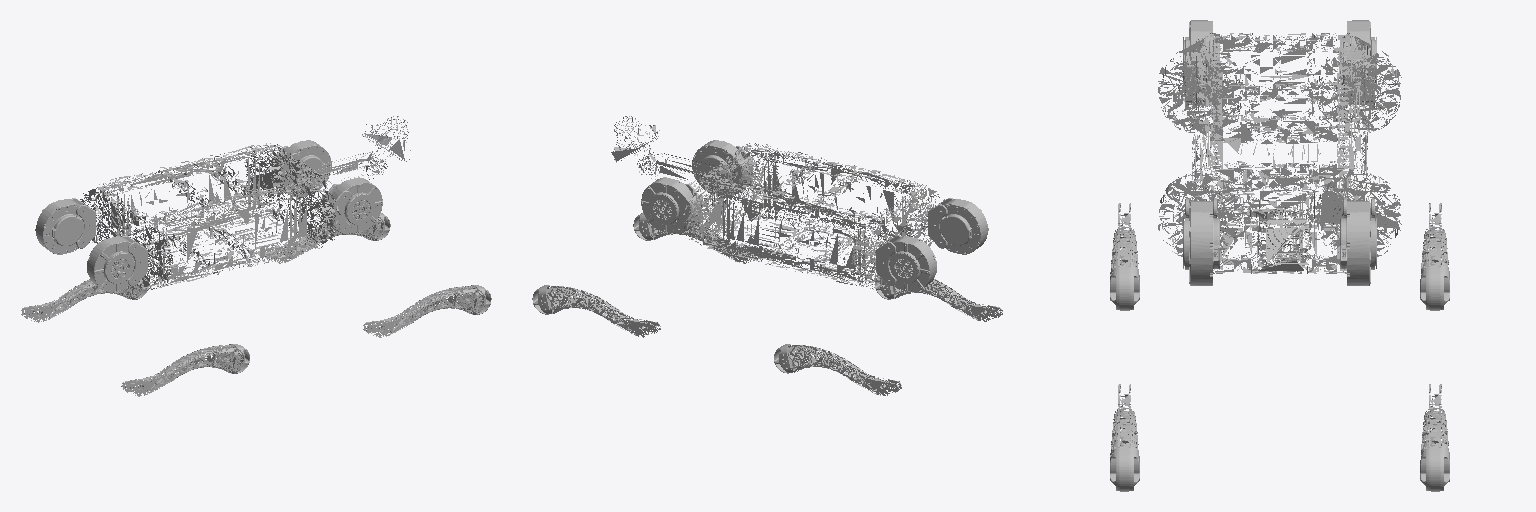
robot.urdf — my_robot:
<?xml version="1.0" encoding="utf-8"?>
<robot name="my_robot">
  <link name="base_link">
    <inertial>
      <origin xyz="0.031204 0.000033 -0.008905" rpy="0 0 0" />
      <mass value="4.494850" />
      <inertia ixx="0.034929" ixy="-0.000071" ixz="-0.006069" iyy="0.143028" iyz="-0.000010" izz="0.162305" />
    </inertial>
    <visual>
      <origin xyz="0 0 0" rpy="0 0 0" />
      <geometry>
        <mesh filename="../meshes/base_link.STL" />
      </geometry>
      <material name=""><color rgba="0.75294 0.75294 0.75294 1" /></material>
    </visual>
    <collision>
      <origin xyz="0.03 0 -0.01" rpy="0 0 0" />
      <geometry><box size="0.42 0.20 0.08" /></geometry>
    </collision>
  </link>

  <joint name="FL_hip_joint" type="revolute">
    <origin xyz="0.1866 0.09 -0.0076048" rpy="0 0 0" />
    <parent link="base_link" />
    <child link="FL_hip_link" />
    <axis xyz="1 0 0" />
    <dynamics damping="0.1" friction="0.2" armature="0.01"/>
    <limit lower="-1.57079632679" upper="1.57079632679" effort="23.7" velocity="30" />
  </joint>
  <link name="FL_hip_link">
    <inertial>
      <origin xyz="0.052135 0.001001 0.000099" rpy="0 0 0" />
      <mass value="0.598856" />
      <inertia ixx="0.000371" ixy="0.0" ixz="0.0" iyy="0.000750" iyz="0.0" izz="0.000492" />
    </inertial>
    <visual>
      <origin xyz="0 0 0" rpy="0 0 0" />
      <geometry><mesh filename="../meshes/FR_hip_link.STL" scale="1 -1 1"/></geometry>
      <material name=""><color rgba="0.75294 0.75294 0.75294 1" /></material>
    </visual>
    <collision>
      <origin xyz="0.052 0 0" rpy="0 1.5708 0" />
      <geometry><cylinder radius="0.045" length="0.105" /></geometry>
    </collision>
  </link>

  <joint name="FL_thigh_joint" type="revolute">
    <origin xyz="0.05774 0.0206 0" rpy="0 0 0" />
    <parent link="FL_hip_link" />
    <child link="FL_thigh_link" />
    <axis xyz="0 1 0" /> 
    <dynamics damping="0.1" friction="0.2" armature="0.01"/>
    <limit lower="-2.35619449019" upper="2.35619449019" effort="23.7" velocity="30" />
  </joint>
  <link name="FL_thigh_link">
    <inertial>
      <origin xyz="-0.017225 0.044465 -0.017434" rpy="0 0 0" />
      <mass value="1.046195" />
      <inertia ixx="0.0037" ixy="0.0" ixz="0.0" iyy="0.0037" iyz="0.0" izz="0.0022" />
    </inertial>
    <visual>
      <origin xyz="0 0 0" rpy="0 -0.61 0" />
      <geometry><mesh filename="../meshes/FR_thigh_link.STL" scale="1 -1 1"/></geometry>
      <material name=""><color rgba="0.75294 0.75294 0.75294 1" /></material>
    </visual>
    <collision>
      <origin xyz="0 0.0665 -0.10" rpy="0 0 0" />
      <geometry><cylinder radius="0.035" length="0.20" /></geometry>
    </collision>
  </link>

  <joint name="FL_calf_joint" type="revolute">
    <origin xyz="0 0.0665 -0.20" rpy="0 0 0" />
    <parent link="FL_thigh_link" />
    <child link="FL_calf_link" />
    <axis xyz="0 1 0" />
    <dynamics damping="0.1" friction="0.2" armature="0.01"/>
    <limit lower="-2.67035375555" upper="-0.5" effort="23.7" velocity="30" />
  </joint>
  <link name="FL_calf_link">
    <inertial>
      <origin xyz="0 0 -0.105" rpy="0 0 0" />
      <mass value="0.093" />
      <inertia ixx="0.000351" ixy="0.0" ixz="0.0" iyy="0.000351" iyz="0.0" izz="0.000019" />
    </inertial>
    <visual>
      <origin xyz="0 0 0" rpy="0 0.6 0" />
      <geometry><mesh filename="../meshes/FR_calf_link.STL" scale="1 1 1"/></geometry>
      <material name=""><color rgba="0.75294 0.75294 0.75294 1" /></material>
    </visual>
    <collision>
      <origin xyz="0 0 -0.105" rpy="0 0 0" />
      <geometry><cylinder radius="0.010" length="0.21" /></geometry>
    </collision>
  </link>

  <joint name="FL_foot_joint" type="fixed">
    <origin xyz="0 0 -0.21" rpy="0 0.6 0" />
    <parent link="FL_calf_link" />
    <child link="FL_foot_link" />
    <axis xyz="0 0 0" />
  </joint>
  <link name="FL_foot_link">
    <inertial>
      <origin xyz="0 0 0" rpy="0 0 0" />
      <mass value="0.024244" />
      <inertia ixx="0.000007" ixy="0.0" ixz="0.0" iyy="0.000007" iyz="0.0" izz="0.000006" />
    </inertial>
    <visual>
      <origin xyz="0 0 0" rpy="0 0 0" />
      <geometry><mesh filename="../meshes/FR_foot_link.STL" scale="1 1 1"/></geometry>
      <material name=""><color rgba="0.75294 0.75294 0.75294 1" /></material>
    </visual>
    <collision>
      <origin xyz="0 0 0" rpy="0 0 0" />
      <geometry><sphere radius="0.02" /></geometry>
    </collision>
  </link>

  <joint name="FR_hip_joint" type="revolute">
    <origin xyz="0.1866 -0.09 -0.0076048" rpy="0 0 0" />
    <parent link="base_link" />
    <child link="FR_hip_link" />
    <axis xyz="1 0 0" />
    <dynamics damping="0.1" friction="0.2" armature="0.01"/>
    <limit lower="-1.57079632679" upper="1.57079632679" effort="23.7" velocity="30" />
  </joint>
  <link name="FR_hip_link">
    <inertial>
      <origin xyz="0.052135 -0.001001 0.000099" rpy="0 0 0" />
      <mass value="0.598856" />
      <inertia ixx="0.000371" ixy="0.0" ixz="0.0" iyy="0.000750" iyz="0.0" izz="0.000492" />
    </inertial>
    <visual>
      <origin xyz="0 0 0" rpy="0 0 0" />
      <geometry><mesh filename="../meshes/FR_hip_link.STL" /></geometry>
      <material name=""><color rgba="0.75294 0.75294 0.75294 1" /></material>
    </visual>
    <collision>
      <origin xyz="0.052 0 0" rpy="0 1.5708 0" />
      <geometry><cylinder radius="0.045" length="0.105" /></geometry>
    </collision>
  </link>

  <joint name="FR_thigh_joint" type="revolute">
    <origin xyz="0.05774 -0.0206 0" rpy="0 0 0" />
    <parent link="FR_hip_link" />
    <child link="FR_thigh_link" />
    <axis xyz="0 1 0" />
    <dynamics damping="0.1" friction="0.2" armature="0.01"/>
    <limit lower="-2.35619449019" upper="2.35619449019" effort="23.7" velocity="30" />
  </joint>
  <link name="FR_thigh_link">
    <inertial>
      <origin xyz="-0.017225 -0.044465 -0.017434" rpy="0 0 0" />
      <mass value="1.046195" />
      <inertia ixx="0.0037" ixy="0.0" ixz="0.0" iyy="0.0037" iyz="0.0" izz="0.0022" />
    </inertial>
    <visual>
      <origin xyz="0 0 0" rpy="0 -0.61 0" />
      <geometry><mesh filename="../meshes/FR_thigh_link.STL" /></geometry>
      <material name=""><color rgba="0.75294 0.75294 0.75294 1" /></material>
    </visual>
    <collision>
      <origin xyz="0 -0.0665 -0.10" rpy="0 0 0" />
      <geometry><cylinder radius="0.035" length="0.20" /></geometry>
    </collision>
  </link>

  <joint name="FR_calf_joint" type="revolute">
    <origin xyz="0 -0.0665 -0.20" rpy="0 0 0" />
    <parent link="FR_thigh_link" />
    <child link="FR_calf_link" />
    <axis xyz="0 1 0" />
    <dynamics damping="0.1" friction="0.2" armature="0.01"/>
    <limit lower="-2.67035375555" upper="-0.5" effort="23.7" velocity="30" />
  </joint>
  <link name="FR_calf_link">
    <inertial>
      <origin xyz="0 0 -0.105" rpy="0 0 0" />
      <mass value="0.093" />
      <inertia ixx="0.000351" ixy="0.0" ixz="0.0" iyy="0.000351" iyz="0.0" izz="0.000019" />
    </inertial>
    <visual>
      <origin xyz="0 0 0" rpy="0 0.6 0" />
      <geometry><mesh filename="../meshes/FR_calf_link.STL" /></geometry>
      <material name=""><color rgba="0.75294 0.75294 0.75294 1" /></material>
    </visual>
    <collision>
      <origin xyz="0 0 -0.105" rpy="0 0 0" />
      <geometry><cylinder radius="0.010" length="0.21" /></geometry>
    </collision>
  </link>

  <joint name="FR_foot_joint" type="fixed">
    <origin xyz="0 0 -0.21" rpy="0 0.6 0" />
    <parent link="FR_calf_link" />
    <child link="FR_foot_link" />
    <axis xyz="0 0 0" />
  </joint>
  <link name="FR_foot_link">
    <inertial>
      <origin xyz="0 0 0" rpy="0 0 0" />
      <mass value="0.024244" />
      <inertia ixx="0.000007" ixy="0.0" ixz="0.0" iyy="0.000007" iyz="0.0" izz="0.000006" />
    </inertial>
    <visual>
      <origin xyz="0 0 0" rpy="0 0 0" />
      <geometry><mesh filename="../meshes/FR_foot_link.STL" /></geometry>
      <material name=""><color rgba="0.75294 0.75294 0.75294 1" /></material>
    </visual>
    <collision>
      <origin xyz="0 0 0" rpy="0 0 0" />
      <geometry><sphere radius="0.02" /></geometry>
    </collision>
  </link>

  <joint name="RL_hip_joint" type="revolute">
    <origin xyz="-0.1866 0.09 -0.0076048" rpy="0 0 0" />
    <parent link="base_link" />
    <child link="RL_hip_link" />
    <axis xyz="1 0 0" />
    <dynamics damping="0.1" friction="0.2" armature="0.01"/>
    <limit lower="-1.57079632679" upper="1.57079632679" effort="23.7" velocity="30" />
  </joint>
  <link name="RL_hip_link">
    <inertial>
      <origin xyz="-0.052135 0.001001 0.000099" rpy="0 0 0" />
      <mass value="0.598856" />
      <inertia ixx="0.000371" ixy="0.0" ixz="0.0" iyy="0.000750" iyz="0.0" izz="0.000492" />
    </inertial>
    <visual>
      <origin xyz="0 0 0" rpy="0 0 0" />
      <geometry><mesh filename="../meshes/FR_hip_link.STL" scale="-1 -1 1"/></geometry>
      <material name=""><color rgba="0.75294 0.75294 0.75294 1" /></material>
    </visual>
    <collision>
      <origin xyz="-0.052 0 0" rpy="0 1.5708 0" />
      <geometry><cylinder radius="0.045" length="0.105" /></geometry>
    </collision>
  </link>

  <joint name="RL_thigh_joint" type="revolute">
    <origin xyz="-0.05774 0.0206 0" rpy="0 0 0" />
    <parent link="RL_hip_link" />
    <child link="RL_thigh_link" />
    <axis xyz="0 1 0" />
    <dynamics damping="0.1" friction="0.2" armature="0.01"/>
    <limit lower="-2.35619449019" upper="2.35619449019" effort="23.7" velocity="30" />
  </joint>
  <link name="RL_thigh_link">
    <inertial>
      <origin xyz="-0.017225 0.044465 -0.017434" rpy="0 0 0" />
      <mass value="1.046195" />
      <inertia ixx="0.0037" ixy="0.0" ixz="0.0" iyy="0.0037" iyz="0.0" izz="0.0022" />
    </inertial>
    <visual>
      <origin xyz="0 0 0" rpy="0 -0.61 0" />
      <geometry><mesh filename="../meshes/FR_thigh_link.STL" scale="1 -1 1"/></geometry>
      <material name=""><color rgba="0.75294 0.75294 0.75294 1" /></material>
    </visual>
    <collision>
      <origin xyz="0 0.0665 -0.10" rpy="0 0 0" /> <geometry><cylinder radius="0.035" length="0.20" /></geometry>
    </collision>
  </link>

  <joint name="RL_calf_joint" type="revolute">
    <origin xyz="0 0.0665 -0.20" rpy="0 0 0" />
    <parent link="RL_thigh_link" />
    <child link="RL_calf_link" />
    <axis xyz="0 1 0" />
    <dynamics damping="0.1" friction="0.2" armature="0.01"/>
    <limit lower="-2.67035375555" upper="-0.5" effort="23.7" velocity="30" />
  </joint>
  <link name="RL_calf_link">
    <inertial>
      <origin xyz="0 0 -0.105" rpy="0 0 0" />
      <mass value="0.093" />
      <inertia ixx="0.000351" ixy="0.0" ixz="0.0" iyy="0.000351" iyz="0.0" izz="0.000019" />
    </inertial>
    <visual>
      <origin xyz="0 0 0" rpy="0 0.6 0" />
      <geometry><mesh filename="../meshes/FR_calf_link.STL" scale="1 1 1"/></geometry>
      <material name=""><color rgba="0.75294 0.75294 0.75294 1" /></material>
    </visual>
    <collision>
      <origin xyz="0 0 -0.105" rpy="0 0 0" />
      <geometry><cylinder radius="0.010" length="0.21" /></geometry>
    </collision>
  </link>

  <joint name="RL_foot_joint" type="fixed">
    <origin xyz="0 0 -0.21" rpy="0 0.6 0" />
    <parent link="RL_calf_link" />
    <child link="RL_foot_link" />
    <axis xyz="0 0 0" />
  </joint>
  <link name="RL_foot_link">
    <inertial>
      <origin xyz="0 0 0" rpy="0 0 0" />
      <mass value="0.024244" />
      <inertia ixx="0.000007" ixy="0.0" ixz="0.0" iyy="0.000007" iyz="0.0" izz="0.000006" />
    </inertial>
    <visual>
      <origin xyz="0 0 0" rpy="0 0 0" />
      <geometry><mesh filename="../meshes/FR_foot_link.STL" scale="1 1 1"/></geometry>
      <material name=""><color rgba="0.75294 0.75294 0.75294 1" /></material>
    </visual>
    <collision>
      <origin xyz="0 0 0" rpy="0 0 0" />
      <geometry><sphere radius="0.02" /></geometry>
    </collision>
  </link>

  <joint name="RR_hip_joint" type="revolute">
    <origin xyz="-0.1866 -0.09 -0.0076048" rpy="0 0 0" />
    <parent link="base_link" />
    <child link="RR_hip_link" />
    <axis xyz="1 0 0" />
    <dynamics damping="0.1" friction="0.2" armature="0.01"/>
    <limit lower="-1.57079632679" upper="1.57079632679" effort="23.7" velocity="30" />
  </joint>
  <link name="RR_hip_link">
    <inertial>
      <origin xyz="-0.052135 -0.001001 0.000099" rpy="0 0 0" />
      <mass value="0.598856" />
      <inertia ixx="0.000371" ixy="0.0" ixz="0.0" iyy="0.000750" iyz="0.0" izz="0.000492" />
    </inertial>
    <visual>
      <origin xyz="0 0 0" rpy="0 0 0" />
      <geometry><mesh filename="../meshes/FR_hip_link.STL" scale="-1 1 1"/></geometry>
      <material name=""><color rgba="0.75294 0.75294 0.75294 1" /></material>
    </visual>
    <collision>
      <origin xyz="-0.052 0 0" rpy="0 1.5708 0" />
      <geometry><cylinder radius="0.045" length="0.105" /></geometry>
    </collision>
  </link>

  <joint name="RR_thigh_joint" type="revolute">
    <origin xyz="-0.05774 -0.0206 0" rpy="0 0 0" />
    <parent link="RR_hip_link" />
    <child link="RR_thigh_link" />
    <axis xyz="0 1 0" />
    <dynamics damping="0.1" friction="0.2" armature="0.01"/>
    <limit lower="-2.35619449019" upper="2.35619449019" effort="23.7" velocity="30" />
  </joint>
  <link name="RR_thigh_link">
    <inertial>
      <origin xyz="-0.017225 -0.044465 -0.017434" rpy="0 0 0" />
      <mass value="1.046195" />
      <inertia ixx="0.0037" ixy="0.0" ixz="0.0" iyy="0.0037" iyz="0.0" izz="0.0022" />
    </inertial>
    <visual>
      <origin xyz="0 0 0" rpy="0 -0.61 0" />
      <geometry><mesh filename="../meshes/FR_thigh_link.STL" scale="1 1 1"/></geometry>
      <material name=""><color rgba="0.75294 0.75294 0.75294 1" /></material>
    </visual>
    <collision>
      <origin xyz="0 -0.0665 -0.10" rpy="0 0 0" />
      <geometry><cylinder radius="0.035" length="0.20" /></geometry>
    </collision>
  </link>

  <joint name="RR_calf_joint" type="revolute">
    <origin xyz="0 -0.0665 -0.20" rpy="0 0 0" />
    <parent link="RR_thigh_link" />
    <child link="RR_calf_link" />
    <axis xyz="0 1 0" />
    <dynamics damping="0.1" friction="0.2" armature="0.01"/>
    <limit lower="-2.67035375555" upper="-0.5" effort="23.7" velocity="30" />
  </joint>
  <link name="RR_calf_link">
    <inertial>
      <origin xyz="0 0 -0.105" rpy="0 0 0" />
      <mass value="0.093" />
      <inertia ixx="0.000351" ixy="0.0" ixz="0.0" iyy="0.000351" iyz="0.0" izz="0.000019" />
    </inertial>
    <visual>
      <origin xyz="0 0 0" rpy="0 0.6 0" />
      <geometry><mesh filename="../meshes/FR_calf_link.STL" scale="1 1 1"/></geometry>
      <material name=""><color rgba="0.75294 0.75294 0.75294 1" /></material>
    </visual>
    <collision>
      <origin xyz="0 0 -0.105" rpy="0 0 0" />
      <geometry><cylinder radius="0.010" length="0.21" /></geometry>
    </collision>
  </link>

  <joint name="RR_foot_joint" type="fixed">
    <origin xyz="0 0 -0.21" rpy="0 0.6 0" />
    <parent link="RR_calf_link" />
    <child link="RR_foot_link" />
    <axis xyz="0 0 0" />
  </joint>
  <link name="RR_foot_link">
    <inertial>
      <origin xyz="0 0 0" rpy="0 0 0" />
      <mass value="0.024244" />
      <inertia ixx="0.000007" ixy="0.0" ixz="0.0" iyy="0.000007" iyz="0.0" izz="0.000006" />
    </inertial>
    <visual>
      <origin xyz="0 0 0" rpy="0 0 0" />
      <geometry><mesh filename="../meshes/FR_foot_link.STL" scale="1 1 1"/></geometry>
      <material name=""><color rgba="0.75294 0.75294 0.75294 1" /></material>
    </visual>
    <collision>
      <origin xyz="0 0 0" rpy="0 0 0" />
      <geometry><sphere radius="0.02" /></geometry>
    </collision>
  </link>
</robot>

--- What the picture shows (computed from the rendered views, not written in the file) ---
Views: 3 orthographic renders of the robot side by side, from view 1: azimuth 30°, elevation 25°; view 2: azimuth 150°, elevation 25°; view 3: azimuth 270°, elevation 25°.
Model my_robot with 17 links and 16 joints (12 revolute, 4 fixed), rooted at base_link, posed all joints at 0 but 4 set to mid-range because 0 is outside their limits (FL_calf_joint = -1.59, FR_calf_joint = -1.59, RL_calf_joint = -1.59, RR_calf_joint = -1.59).
Links seen in each view (by area): view 1: base_link, RR_hip_link, RL_hip_link, FR_hip_link, RR_calf_link, FR_calf_link, FL_hip_link, RL_calf_link, FL_calf_link; view 2: base_link, RL_hip_link, RR_hip_link, FL_hip_link, RL_calf_link, FL_calf_link, FR_hip_link, RR_calf_link, FR_calf_link; view 3: base_link, FL_hip_link, FR_hip_link, RL_hip_link, RL_foot_link, RR_foot_link, FL_foot_link, FR_foot_link, RR_hip_link, RR_calf_link, FR_calf_link, RL_calf_link (+1 smaller).
Link boxes in pixels (left/top/right/bottom): base_link: left=80, top=116, right=410, bottom=289; RR_hip_link: left=87, top=235, right=147, bottom=291; RL_hip_link: left=35, top=198, right=95, bottom=254; FR_hip_link: left=322, top=177, right=382, bottom=234; RR_calf_link: left=121, top=345, right=243, bottom=396; FR_calf_link: left=363, top=286, right=484, bottom=337; FL_hip_link: left=271, top=140, right=331, bottom=196; RL_calf_link: left=21, top=279, right=142, bottom=322; FL_calf_link: left=265, top=218, right=383, bottom=263; base_link: left=611, top=116, right=944, bottom=289; RL_hip_link: left=876, top=235, right=936, bottom=291; RR_hip_link: left=928, top=198, right=988, bottom=254; FL_hip_link: left=641, top=177, right=701, bottom=234; RL_calf_link: left=788, top=345, right=901, bottom=395; FL_calf_link: left=546, top=286, right=660, bottom=337; FR_hip_link: left=692, top=140, right=752, bottom=196; RR_calf_link: left=892, top=279, right=1002, bottom=321; FR_calf_link: left=647, top=221, right=761, bottom=263; base_link: left=1158, top=33, right=1401, bottom=273; FL_hip_link: left=1340, top=198, right=1376, bottom=285; FR_hip_link: left=1183, top=198, right=1219, bottom=285; RL_hip_link: left=1340, top=20, right=1376, bottom=107; RL_foot_link: left=1420, top=266, right=1449, bottom=310; RR_foot_link: left=1110, top=265, right=1139, bottom=310; FL_foot_link: left=1420, top=447, right=1449, bottom=491; FR_foot_link: left=1110, top=446, right=1139, bottom=491; RR_hip_link: left=1183, top=20, right=1219, bottom=107; RR_calf_link: left=1110, top=203, right=1138, bottom=277; FR_calf_link: left=1110, top=384, right=1138, bottom=458; RL_calf_link: left=1421, top=203, right=1448, bottom=275.
Size in the robot's own frame: 0.7574 by 0.3882 by 0.3224 metres.
Meshes: 5 distinct files referenced, 13 mesh visuals loaded (4 binary STL); not drawn: 4 (reference not matched to a file when rendering).
